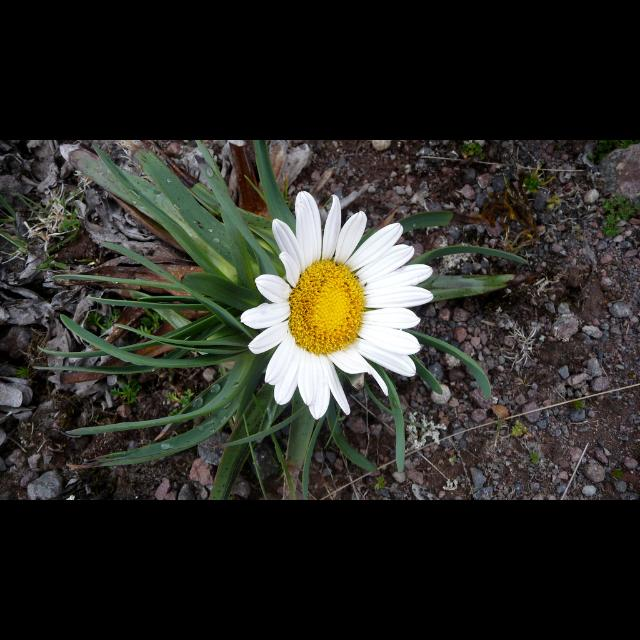Flower: (230, 196, 436, 416)
